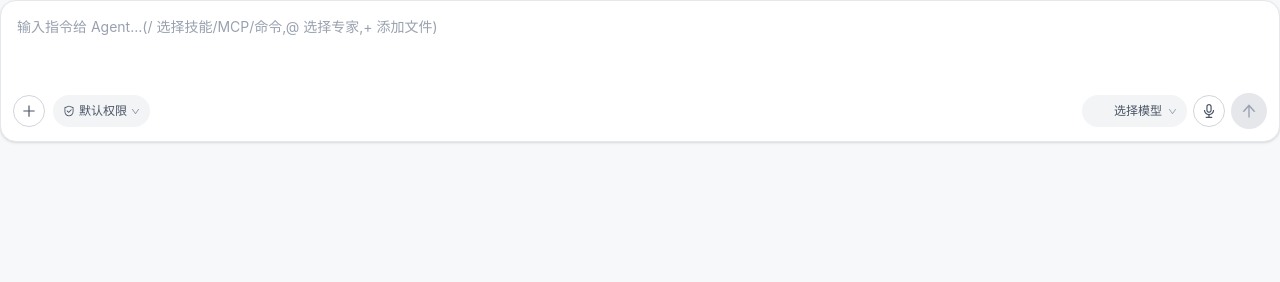
AgentWorkspaceInput › + 号菜单展开显示 添加文件/技能 入口,无剧本
Click the button titled "添加文件 / 技能 / MCP / 命令".
click(29, 111)  # box [13,95,45,127]
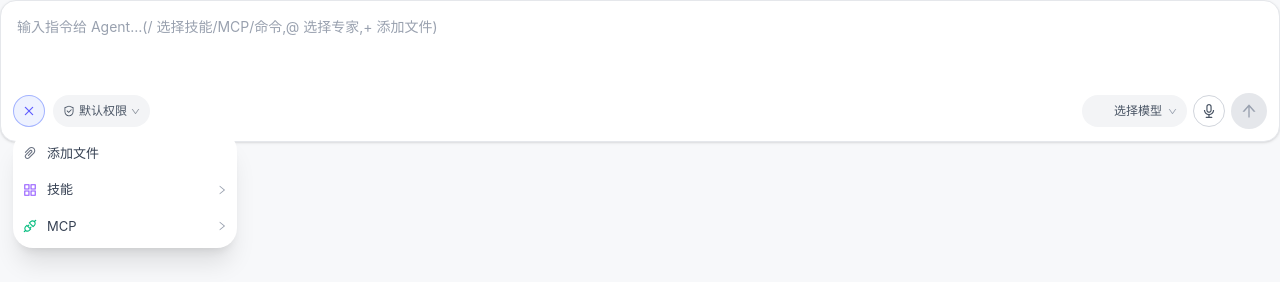
Result: the text "添加文件" is shown at [47,143,99,163]
Result: the text "技能" is shown at [47,179,73,200]
